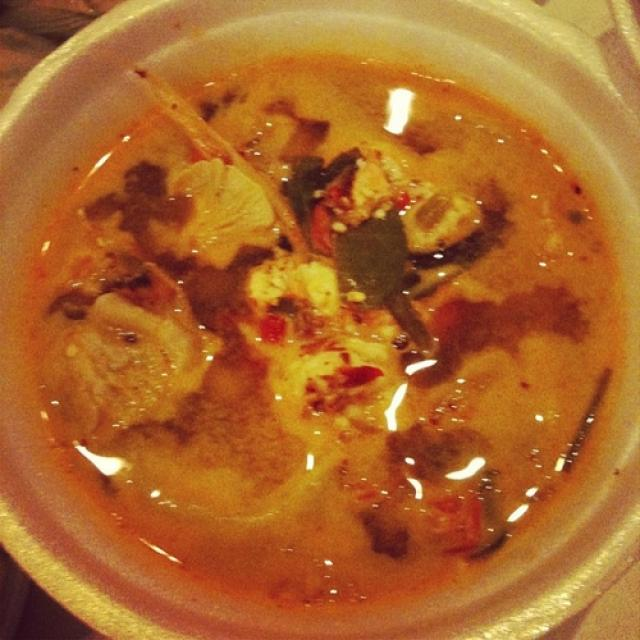汤锅炖物: (23, 28, 603, 608)
